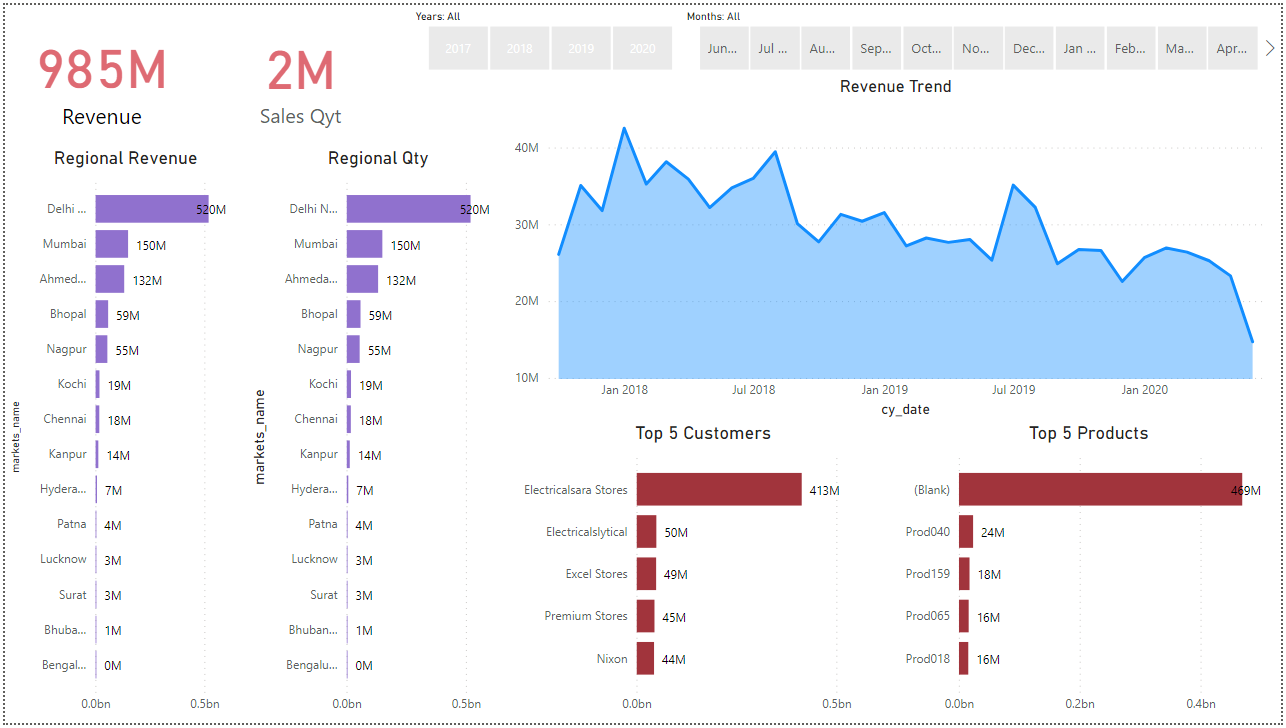

The dashboard page shown, as its layout file describes it:
{"tool":"powerbi","page":{"name":"Page 1","canvas":[1280,720],"ordinal":0},"visuals":[{"type":"card","fields":{"Values":["BaseMeasures.Revenue"]},"box":[0,0,194.3,142.9],"z":0},{"type":"card","fields":{"Values":["BaseMeasures.Sales Qyt"]},"box":[194.3,0,204.3,142.9],"z":1000},{"type":"barChart","title":"Regional Revenue","fields":{"Y":["BaseMeasures.Revenue"],"Category":["sales markets.markets_name"]},"box":[0,142.9,242,576.7],"z":2000},{"type":"barChart","title":"Regional Qty","fields":{"Y":["BaseMeasures.Revenue"],"Category":["sales markets.markets_name"]},"box":[242,142.9,264.5,576.7],"z":3000},{"type":"slicer","fields":{"Values":["sales date.year"]},"box":[398.7,0,294.6,71.5],"z":4000},{"type":"slicer","fields":{"Values":["sales date.cy_date"]},"box":[670.7,0,609.3,71.5],"z":5000},{"type":"barChart","title":"Top 5 Customers","fields":{"Y":["BaseMeasures.Revenue"],"Category":["sales customers.custmer_name"]},"box":[506.5,418.7,387.4,300.9],"z":5001},{"type":"barChart","title":"Top 5 Products","fields":{"Y":["BaseMeasures.Revenue"],"Category":["sales products.product_code"]},"box":[893.9,418.7,386.1,300.9],"z":5002},{"type":"stackedAreaChart","title":"Revenue Trend","fields":{"Y":["BaseMeasures.Revenue"],"Category":["sales date.cy_date"]},"box":[506.5,71.5,773.5,347.3],"z":5003}]}

Visuals, with their boxes in screenshot pixels (x1, y1, x2, y2), scaled from the page's 1280x720 canvas onto the 1286x728 screenshot:
card - BaseMeasures.Revenue: bbox(0, 0, 195, 144)
card - BaseMeasures.Sales Qyt: bbox(195, 0, 400, 144)
"Regional Revenue" barChart: bbox(0, 144, 243, 727)
"Regional Qty" barChart: bbox(243, 144, 509, 727)
slicer - sales date.year: bbox(401, 0, 697, 72)
slicer - sales date.cy_date: bbox(674, 0, 1285, 72)
"Top 5 Customers" barChart: bbox(509, 423, 898, 727)
"Top 5 Products" barChart: bbox(898, 423, 1285, 727)
"Revenue Trend" stackedAreaChart: bbox(509, 72, 1285, 423)
